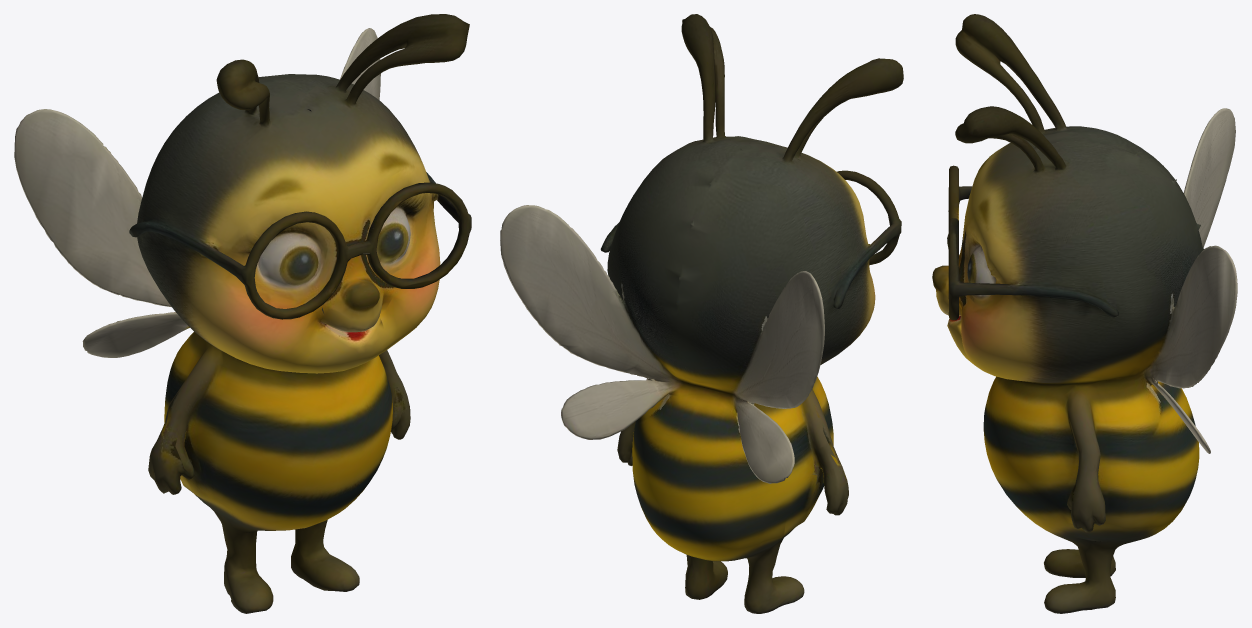
Rendered from zenny.glb.
The picture shows the model from 3 angles, left to right: view 1: azimuth 30°, elevation 25°; view 2: azimuth 150°, elevation 25°; view 3: azimuth 270°, elevation 25°; orthographic projection. The views are drawn at different scales.
Parts seen in each view (by area): view 1: Zenny_Companion; view 2: Zenny_Companion; view 3: Zenny_Companion.
Boxes of the visible parts, x1,y1,x2,y2 form: Zenny_Companion: (14,14,471,613); Zenny_Companion: (500,14,903,613); Zenny_Companion: (932,14,1237,613).
Bounding box in the file's own units: 0.1944 × 0.3 × 0.1578.
1 material, 1 textured.
